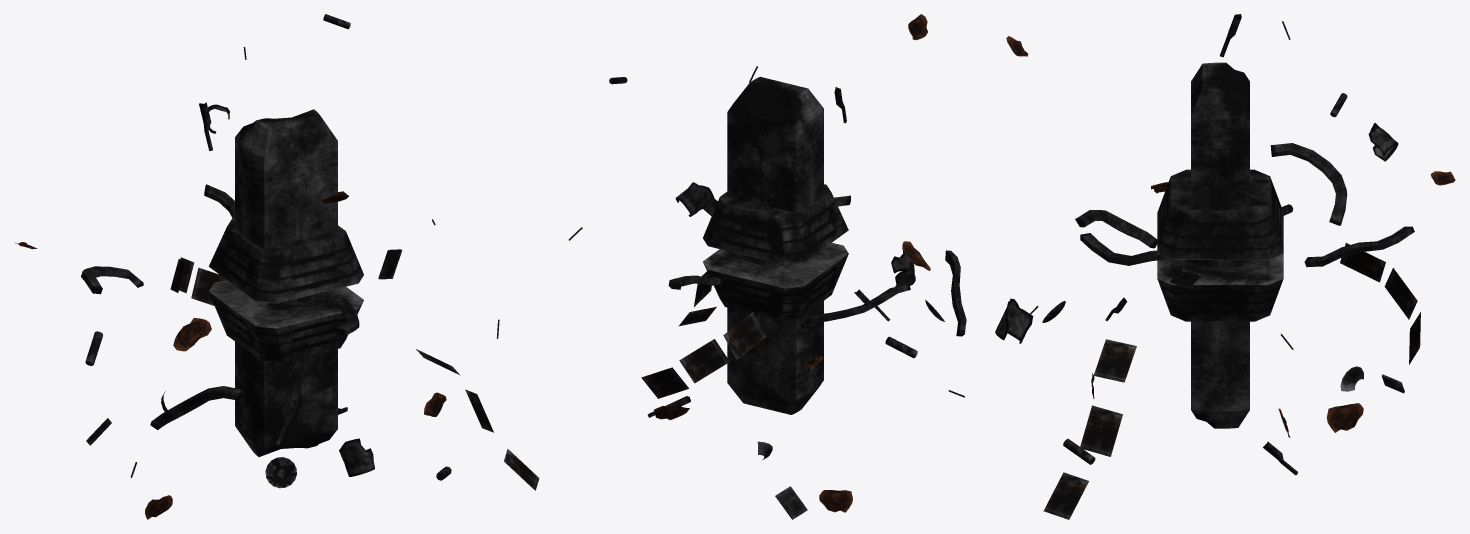
Rendered from DebrisStructureA_sm.gltf.
3 renders of one model, left to right at view 1: azimuth 30°, elevation 25°; view 2: azimuth 150°, elevation 25°; view 3: azimuth 270°, elevation 25°, orthographic. The views are drawn at different scales.
Visible parts, largest first — view 1: StationDebris09; view 2: StationDebris09; view 3: StationDebris09.
Part boxes in pixels (x1,y1,x2,y2): StationDebris09: (15,14,539,519); StationDebris09: (568,14,966,519); StationDebris09: (995,14,1455,519).
Size of the model in its own units: 46.53 by 55.25 by 50.41.
Materials: 1 (1 with a texture image).
